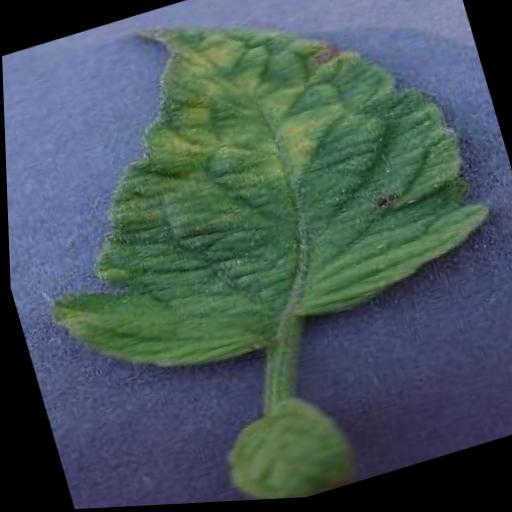Leaf Mold: (0, 0, 512, 410)
